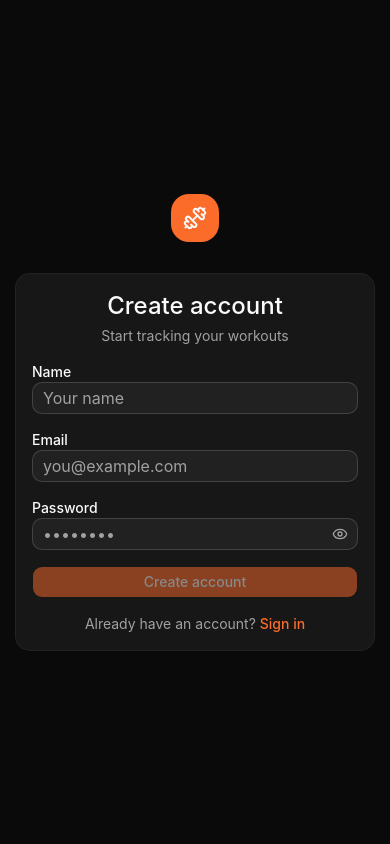
Test: RegisterPage — error handling › shows "email already in use" for "Email already registered" error
This screenshot has width=390, height=844.
Type "Alice" into the field labelled "Name" at (195, 398), box [32,382,358,414]
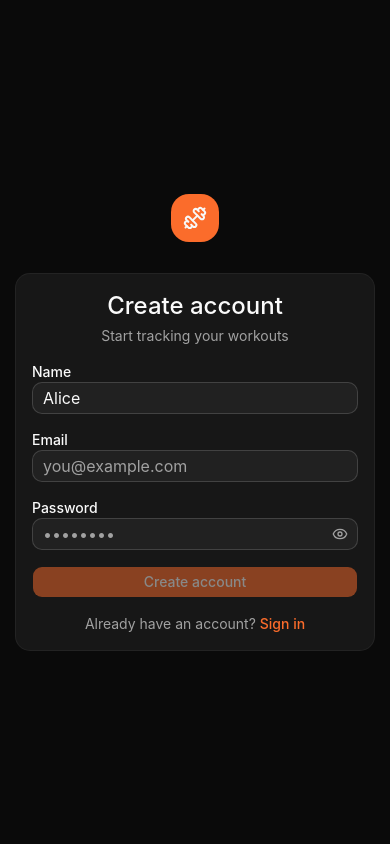
Type "alice@example.com" into the field labelled "Email" at (195, 466), box [32,450,358,482]
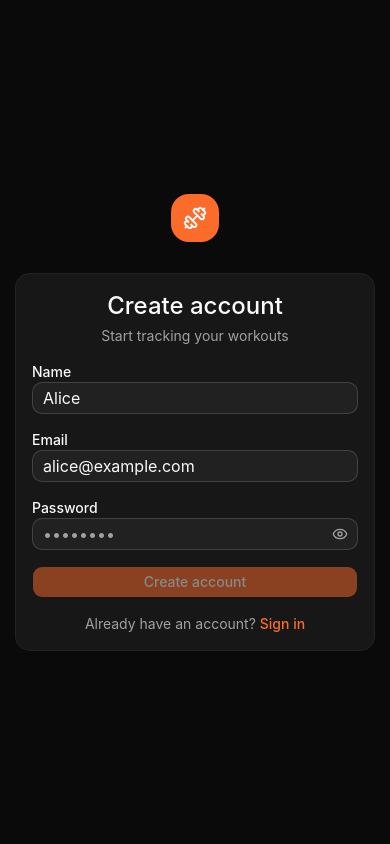
Type "Password1" into the password field labelled "Password" at (195, 534), box [32,518,358,550]
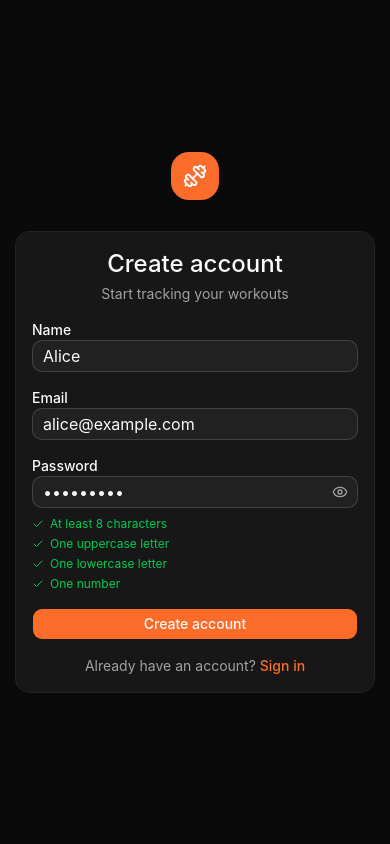
Submit the form named "create account", box [32,320,358,640]
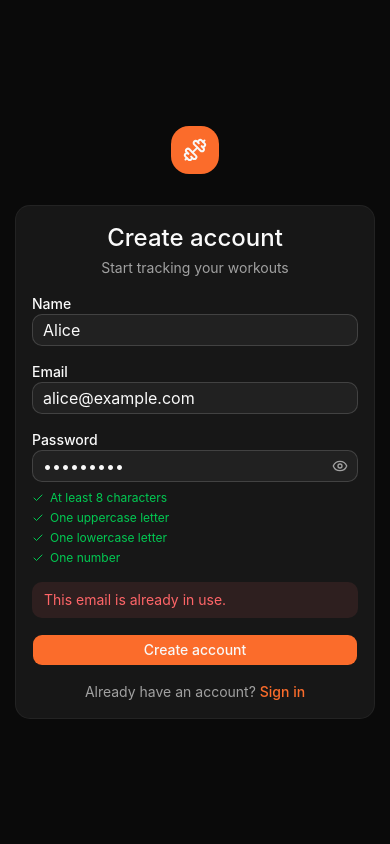
Result: the text "This email is already in use." is shown at [32,582,358,618]
